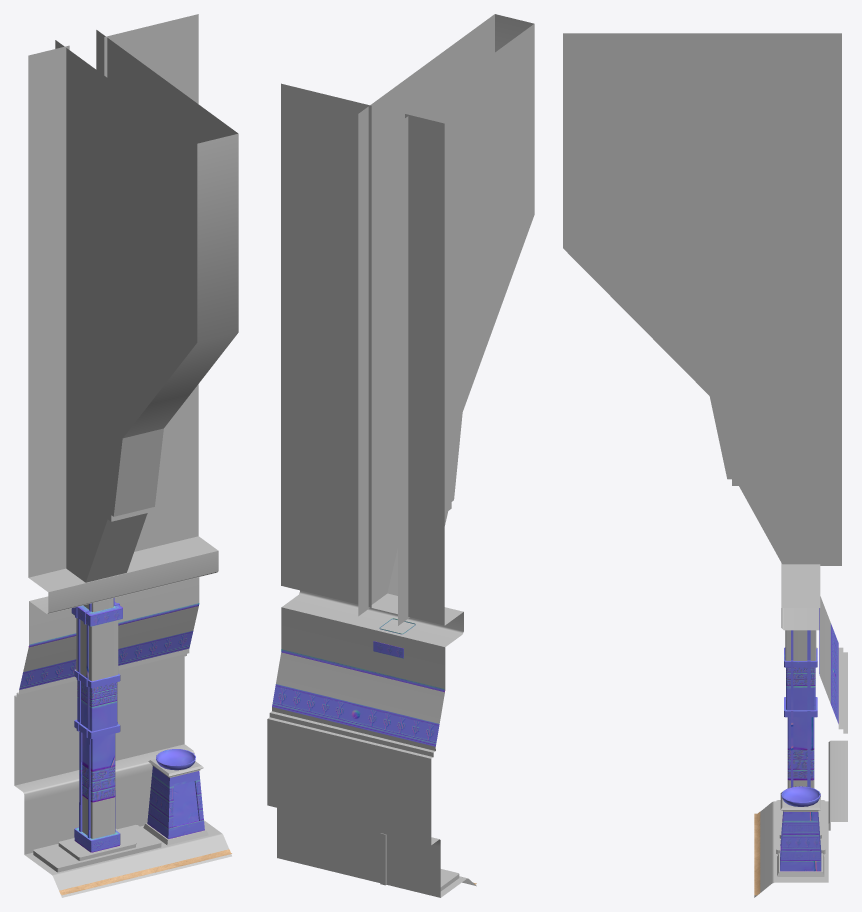
Rendered from TallWall.fbx.
3 renders of one model, left to right at view 1: azimuth 30°, elevation 25°; view 2: azimuth 150°, elevation 25°; view 3: azimuth 270°, elevation 25°, orthographic. The views are drawn at different scales.
Parts seen in each view (by area): view 1: Butress, Wall, Pillar3, Stand1, MeshTape; view 2: Wall, Butress, Pillar3; view 3: Butress, Wall, Pillar3, Stand1, MeshTape.
Boxes of the visible parts, x1,y1,x2,y2 form: Butress: (55, 30, 238, 582); Wall: (14, 14, 231, 897); Pillar3: (33, 598, 161, 872); Stand1: (143, 749, 208, 845); MeshTape: (59, 849, 231, 895); Wall: (267, 83, 476, 897); Butress: (358, 14, 534, 625); Pillar3: (373, 618, 459, 891); Butress: (563, 33, 841, 565); Wall: (754, 563, 847, 897); Pillar3: (776, 630, 825, 854); Stand1: (777, 786, 824, 876); MeshTape: (754, 811, 760, 895).
Bounding box in the file's own units: 260 × 1191 × 383.
